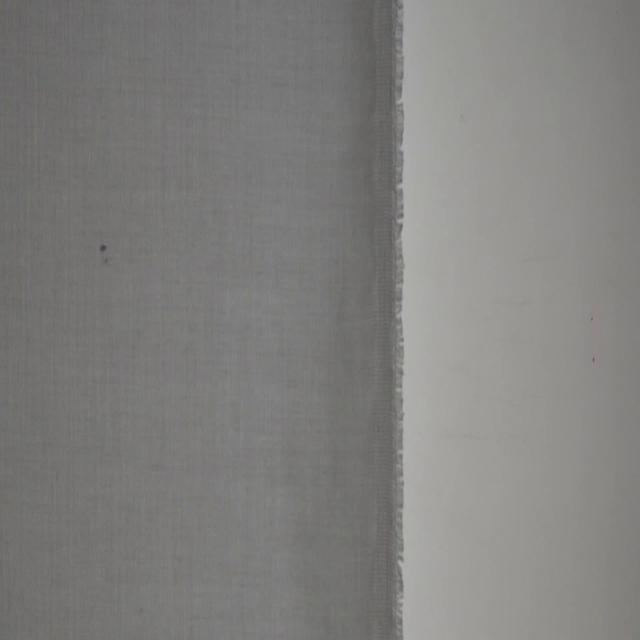dirty: (98, 240, 110, 266)
